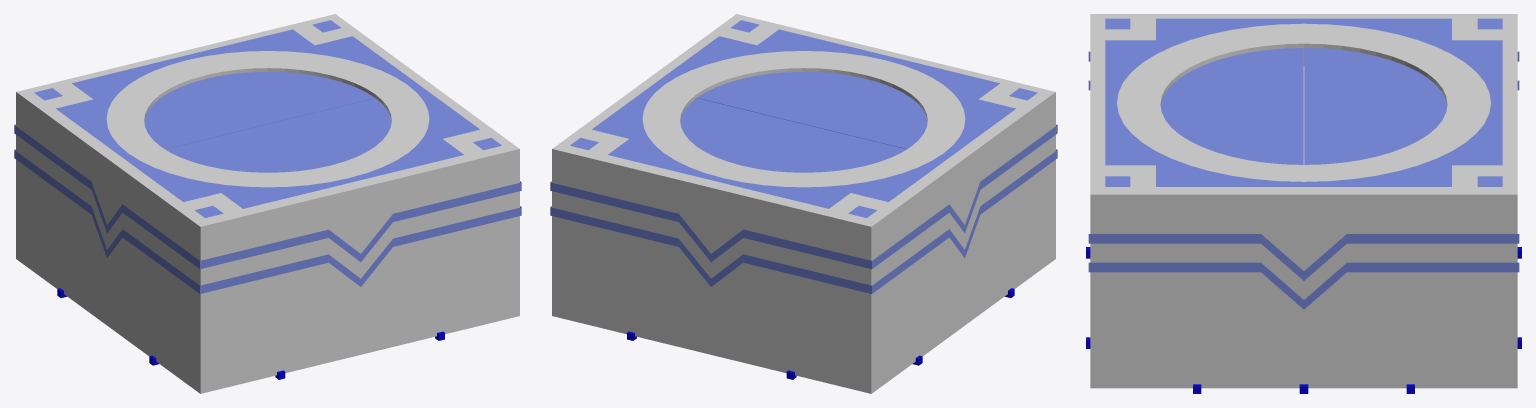
Rendered from portal.glb.
3 views of the same model, side by side, from view 1: azimuth 30°, elevation 25°; view 2: azimuth 150°, elevation 25°; view 3: azimuth 270°, elevation 25° (orthographic). The views are drawn at different scales.
Visible parts, largest first — view 1: cube, col2, door2, door1; view 2: cube, col2, door1, door2; view 3: cube, col2, door1, door2.
Part boxes in pixels (x1,y1,x2,y2): cube: (16,14,519,393); col2: (14,20,521,293); door2: (144,71,374,149); door1: (165,98,391,172); cube: (552,14,1055,393); col2: (550,20,1057,293); door1: (697,71,927,149); door2: (680,98,906,172); cube: (1090,14,1517,388); col2: (1088,18,1519,309); door1: (1161,48,1303,164); door2: (1304,48,1446,164).
Size of the model in its own units: 10.2 by 5.14 by 10.2.
